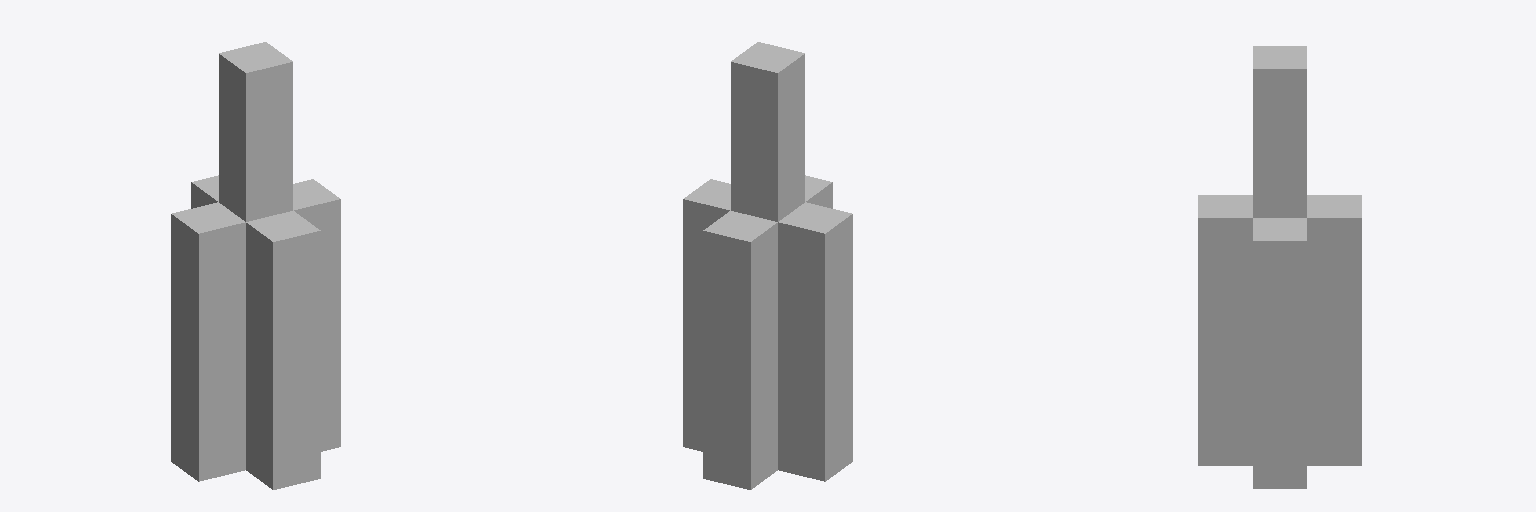
The model's file is WineBottle.obj.
3 views of the same model, side by side, from view 1: azimuth 30°, elevation 25°; view 2: azimuth 150°, elevation 25°; view 3: azimuth 270°, elevation 25° (orthographic).
Visible parts, largest first — view 1: WineBottle; view 2: WineBottle; view 3: WineBottle.
Part boxes in pixels (x1,y1,x2,y2): WineBottle: (171,42,340,489); WineBottle: (683,42,852,489); WineBottle: (1198,46,1361,488).
Size of the model in its own units: 3 by 8 by 3.